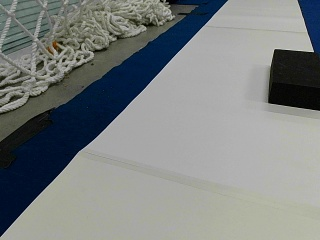block: (269, 49, 319, 110)
